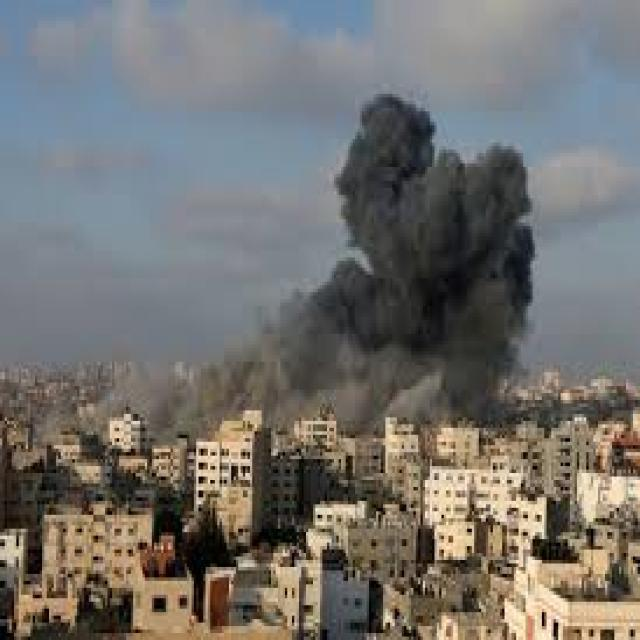Smoke: (88, 86, 536, 439)
